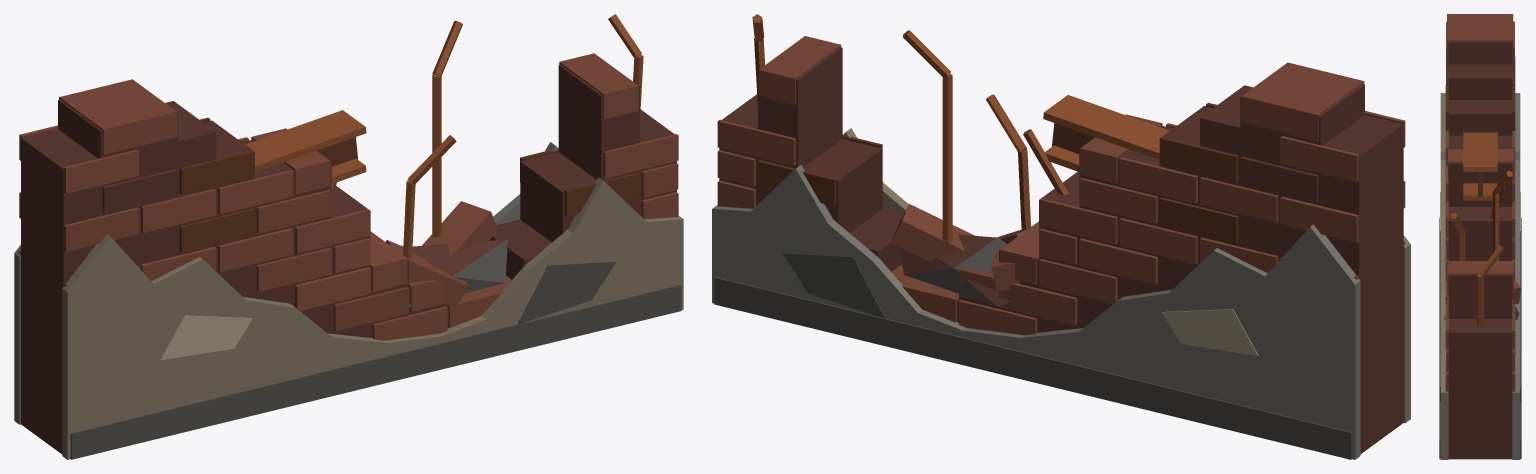
The model's file is ruin_parapet_b.fbx.
3 views of the same model, side by side, from view 1: azimuth 30°, elevation 25°; view 2: azimuth 150°, elevation 25°; view 3: azimuth 270°, elevation 25° (orthographic). The views are drawn at different scales.
Visible parts, largest first — view 1: ruin_parapet_b; view 2: ruin_parapet_b; view 3: ruin_parapet_b.
Part boxes in pixels (bbox=[...]): ruin_parapet_b: bbox=[14, 14, 683, 459]; ruin_parapet_b: bbox=[712, 14, 1410, 459]; ruin_parapet_b: bbox=[1439, 14, 1521, 459].
Bounding box in the file's own units: 2 × 0.984 × 0.31.
